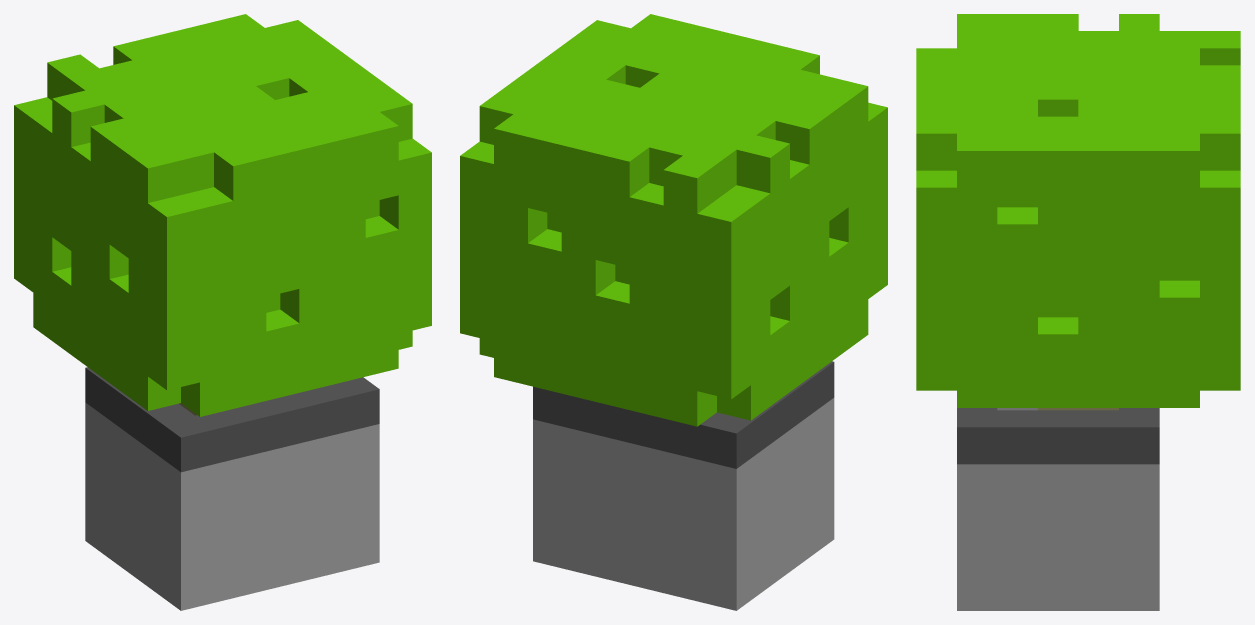
The model's file is obj_planter1.obj.
The picture shows the model from 3 angles, left to right: view 1: azimuth 30°, elevation 25°; view 2: azimuth 150°, elevation 25°; view 3: azimuth 270°, elevation 25°; orthographic projection. The views are drawn at different scales.
Bounding box in the file's own units: 0.8 × 1.3 × 0.8.
1 material, 1 textured.
